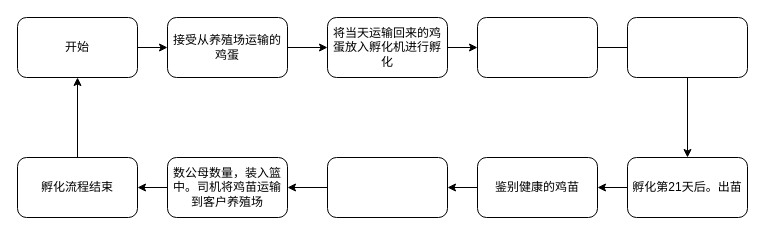
This 765x235 diagram has some shape labels left out. Here are the shapes that lost their labels. From the top down, the box of each, then its label:
(476, 16, 598, 78): 孵化6天后，将鸡蛋取出，使用仪器检查胚胎发育情况。继续孵化。
(626, 16, 748, 78): 孵化第18天后，更换孵化容器。继续孵化
(326, 156, 448, 218): 对健康的鸡苗打疫苗
